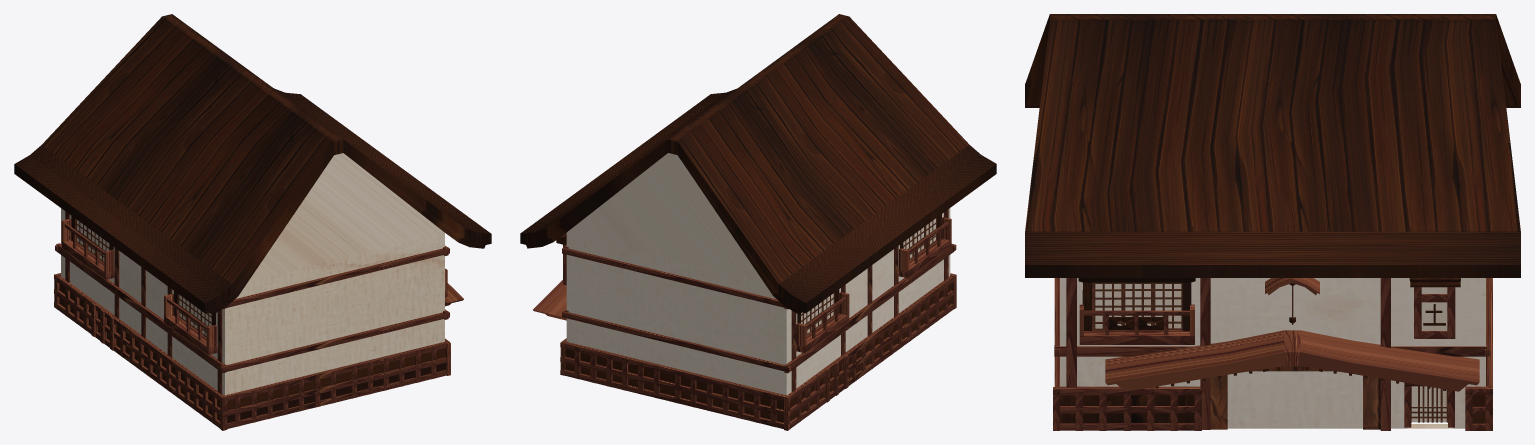
File: house1.fbx
The picture shows the model from 3 angles, left to right: view 1: azimuth 30°, elevation 25°; view 2: azimuth 150°, elevation 25°; view 3: azimuth 270°, elevation 25°; orthographic projection. The views are drawn at different scales.
Visible parts, largest first — view 1: roof, houseBase1, houseWrap, balconyFloor (×2), wood88, wood79, wood87, wood16, wood34, wood56, wood24, wood36 (+1 smaller); view 2: roof, houseBase1, houseWrap, balconyFloor (×2), wood60, wood89, wood78, wood87, wood61, wood34, wood57, wood36 (+2 smaller); view 3: roof, houseBase1, arch2, houseWrap, wood3, windowPanePlane1 (×3), balconyFloor, wood90, windowPaneFrame, wood2, wood5, wood1 (+8 smaller).
Part boxes in pixels (x1,y1,x2,y2): roof: (14, 14, 491, 314); houseBase1: (61, 153, 444, 395); houseWrap: (59, 284, 445, 423); balconyFloor (×2): (61, 218, 217, 354); wood88: (220, 312, 449, 372); wood79: (224, 247, 449, 308); wood87: (56, 243, 226, 372); wood16: (220, 342, 449, 401); wood34: (57, 276, 223, 400); wood56: (222, 357, 446, 416); wood24: (227, 370, 446, 428); wood36: (57, 290, 220, 414); roof: (520, 14, 996, 314); houseBase1: (566, 153, 950, 395); houseWrap: (565, 284, 951, 422); balconyFloor (×2): (796, 217, 951, 353); wood60: (562, 341, 790, 402); wood89: (562, 310, 791, 372); wood78: (562, 247, 788, 308); wood87: (784, 244, 954, 373); wood61: (562, 370, 790, 429); wood34: (787, 276, 953, 401); wood57: (564, 357, 790, 416); wood36: (790, 290, 953, 415); roof: (1025, 14, 1520, 277); houseBase1: (1060, 278, 1485, 428); arch2: (1105, 330, 1479, 391); houseWrap: (1060, 356, 1487, 423); wood3: (1210, 366, 1380, 429); windowPanePlane1 (×3): (1095, 284, 1181, 328); balconyFloor: (1079, 304, 1194, 344); wood90: (1054, 345, 1487, 356); windowPaneFrame: (1078, 278, 1195, 330); wood2: (1380, 278, 1390, 430); wood5: (1056, 386, 1200, 395); wood1: (1200, 278, 1210, 429).
Bounding box in the file's own units: 10.77 × 9.36 × 12.28.
6 materials, 6 textured.
